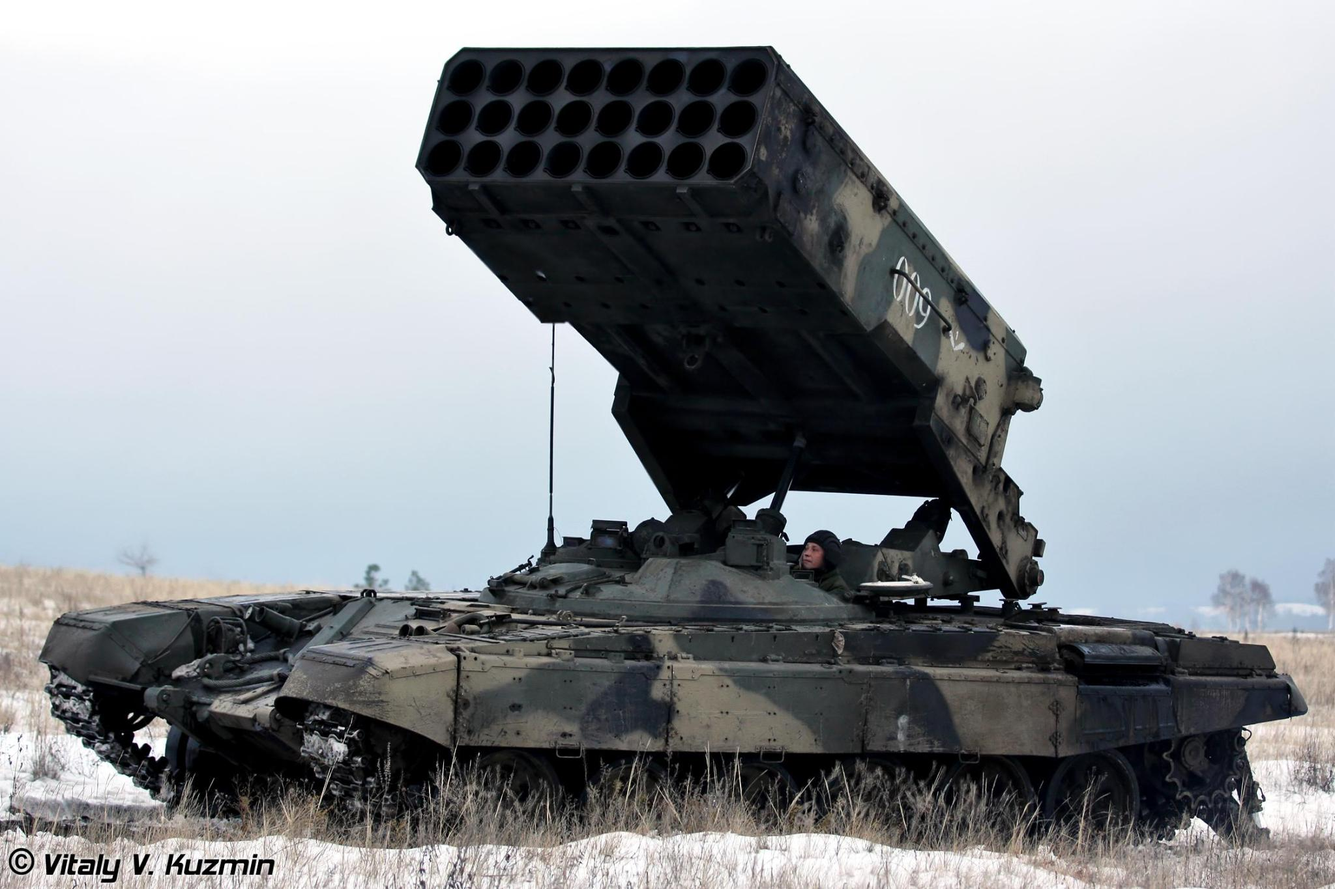rszo: (67, 40, 1335, 865)
